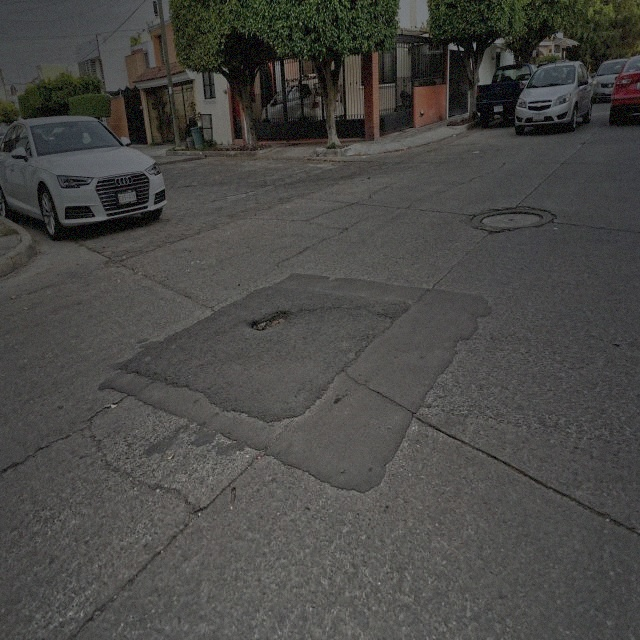pothole: (246, 310, 289, 334)
